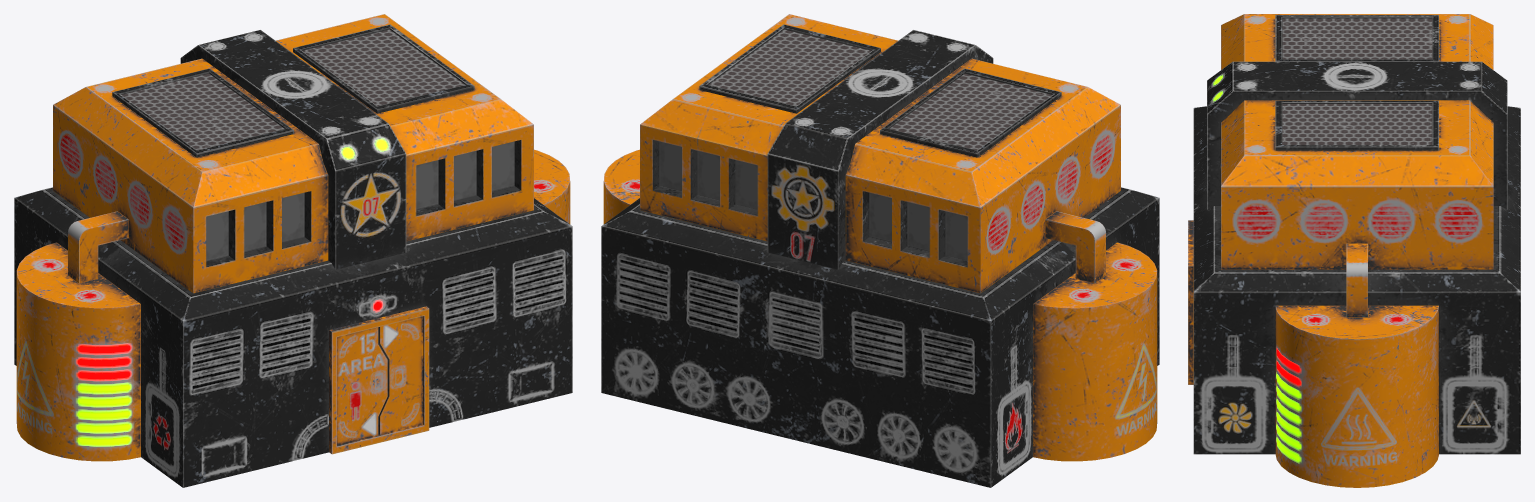
Rendered from skills.glb.
3 renders of one model, left to right at view 1: azimuth 30°, elevation 25°; view 2: azimuth 150°, elevation 25°; view 3: azimuth 270°, elevation 25°, orthographic. The views are drawn at different scales.
Visible parts, largest first — view 1: Sci-Fi_Building_01; view 2: Sci-Fi_Building_01; view 3: Sci-Fi_Building_01.
Boxes of the visible parts, x1,y1,x2,y2 form: Sci-Fi_Building_01: (14, 14, 572, 487); Sci-Fi_Building_01: (601, 14, 1159, 487); Sci-Fi_Building_01: (1188, 14, 1520, 487).
Bounding box in the file's own units: 1091 × 578 × 610.
1 material, 1 textured.
